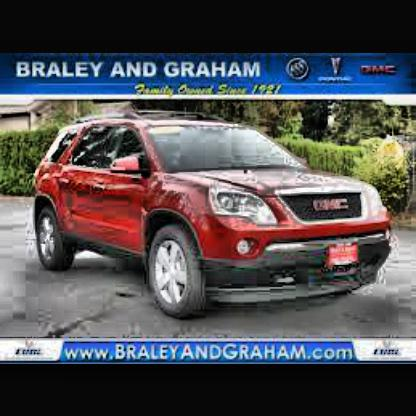GMC Acadia SUV 2012: (30, 116, 397, 316)
